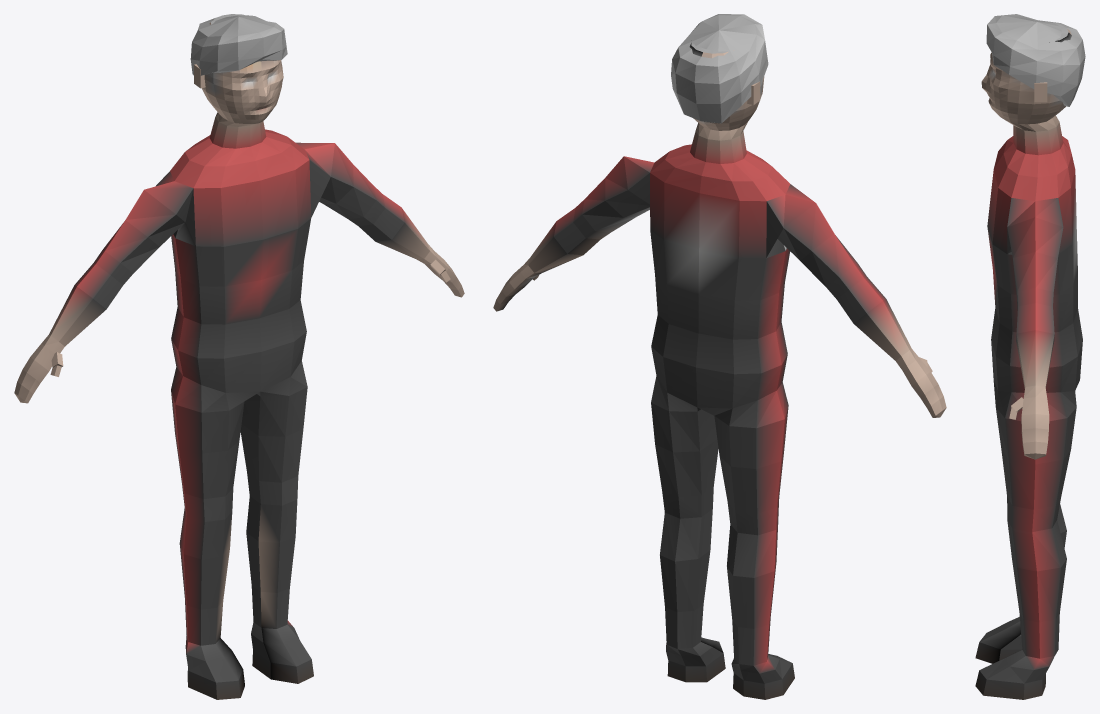
Rendered from char__pessoa__piloto_h06.glb.
The picture shows the model from 3 angles, left to right: view 1: azimuth 30°, elevation 25°; view 2: azimuth 150°, elevation 25°; view 3: azimuth 270°, elevation 25°; orthographic projection.
Parts seen in each view (by area): view 1: char__pessoa__piloto_h06; view 2: char__pessoa__piloto_h06; view 3: char__pessoa__piloto_h06.
Boxes of the visible parts, x1,y1,x2,y2 form: char__pessoa__piloto_h06: (14, 14, 464, 699); char__pessoa__piloto_h06: (493, 14, 946, 699); char__pessoa__piloto_h06: (975, 14, 1085, 699).
Bounding box in the file's own units: 1.24 × 1.75 × 0.2674.
